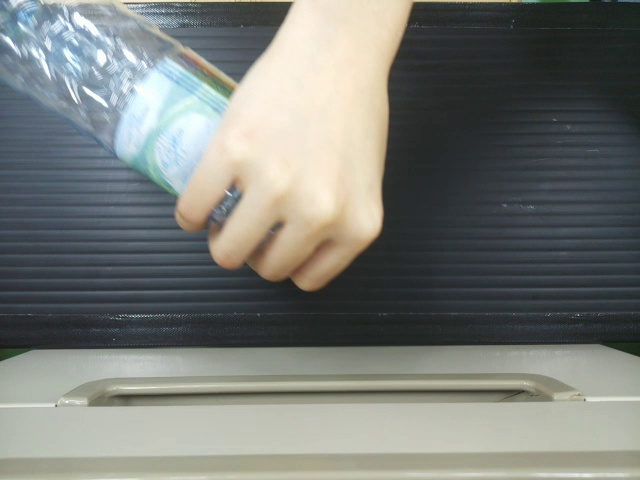bottle: (0, 0, 226, 220)
